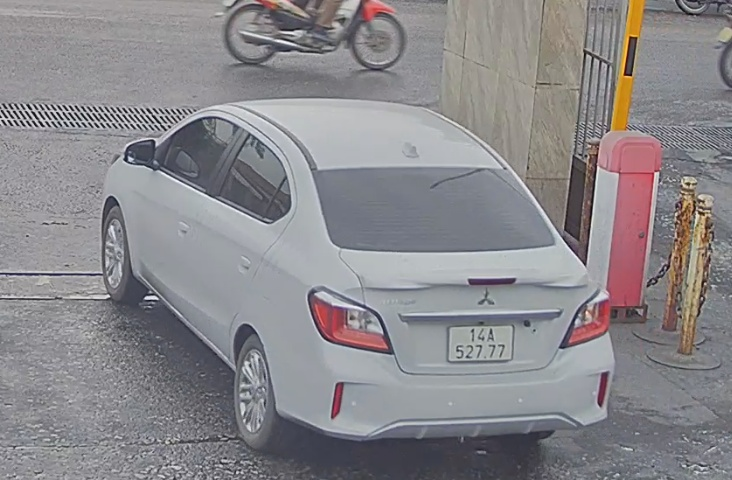vehicle plate: (447, 321, 515, 366)
